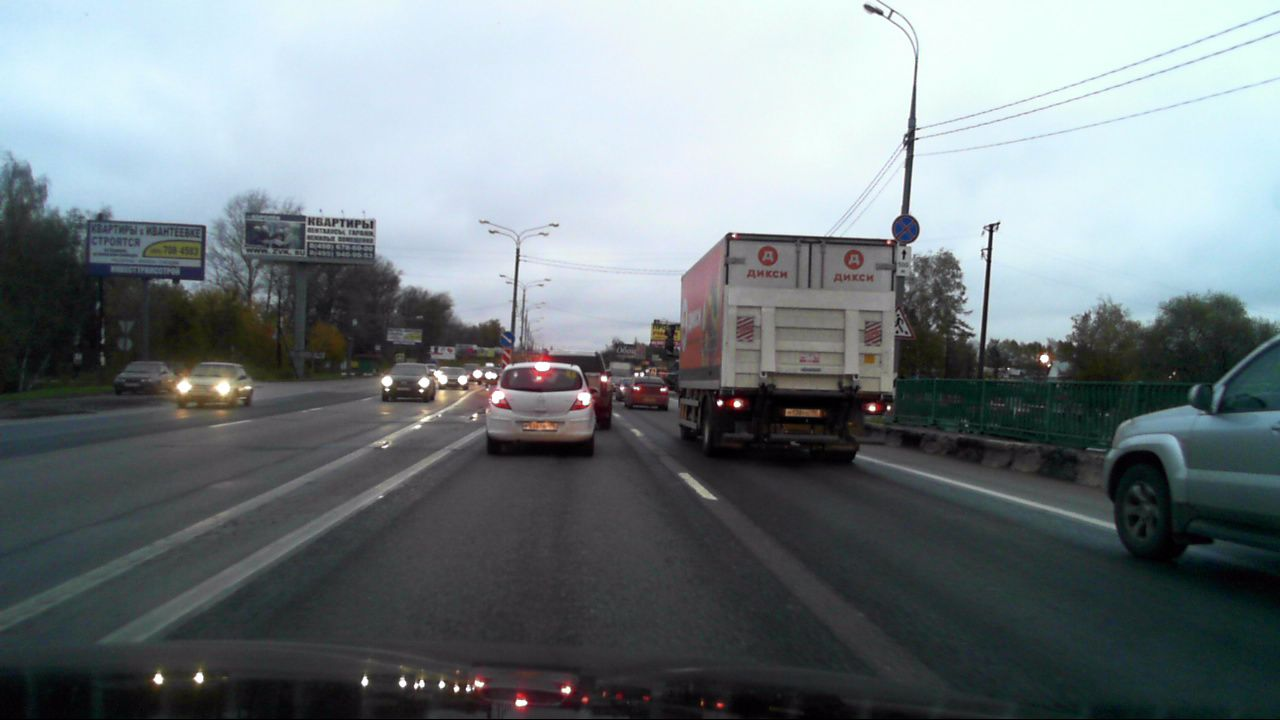No Parking: (891, 214, 920, 242)
